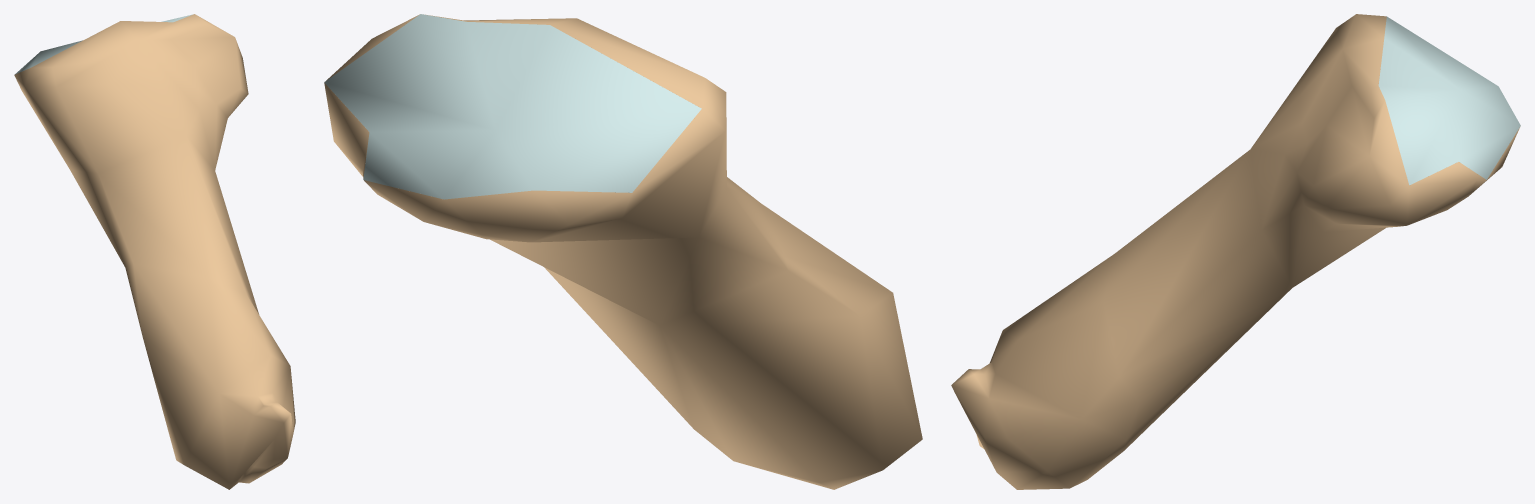
File: Distal_phalanx_fifth_finger_left.glb
3 renders of one model, left to right at view 1: azimuth 30°, elevation 25°; view 2: azimuth 150°, elevation 25°; view 3: azimuth 270°, elevation 25°, orthographic. The views are drawn at different scales.
Visible parts, largest first — view 1: Distal_phalanx_of_5th_finger.l_Generated_Mesh_From_X3D.722; view 2: Distal_phalanx_of_5th_finger.l_Generated_Mesh_From_X3D.722; view 3: Distal_phalanx_of_5th_finger.l_Generated_Mesh_From_X3D.722.
Part boxes in pixels (x1,y1,x2,y2): Distal_phalanx_of_5th_finger.l_Generated_Mesh_From_X3D.722: (14,14,295,489); Distal_phalanx_of_5th_finger.l_Generated_Mesh_From_X3D.722: (324,14,922,489); Distal_phalanx_of_5th_finger.l_Generated_Mesh_From_X3D.722: (951,14,1520,489).
Size of the model in its own units: 0.00858 by 0.0131 by 0.0148.
